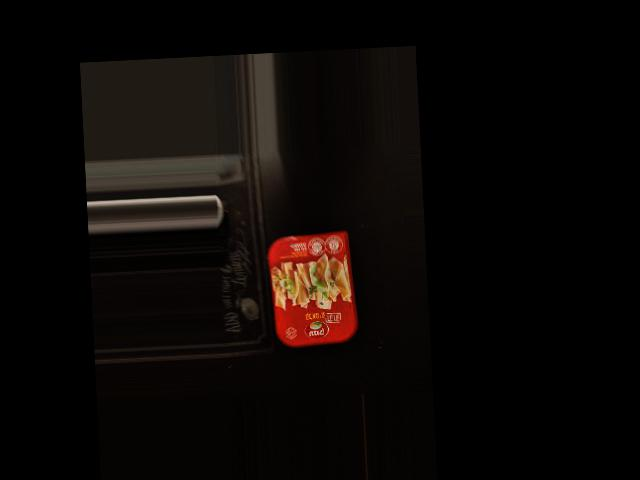cheese: (267, 232, 353, 349)
